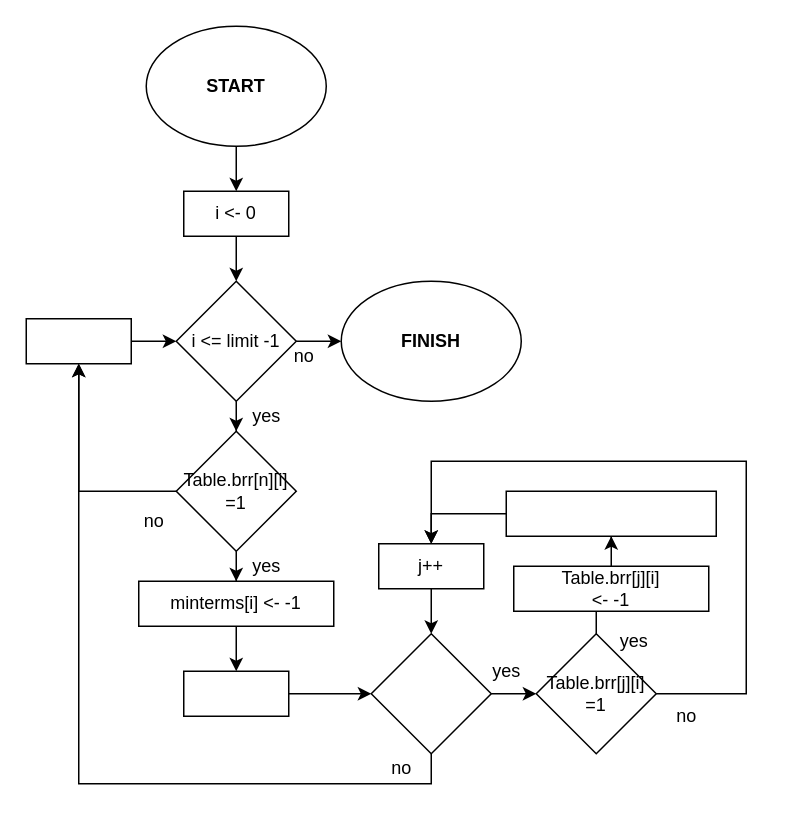
Image size: 785x822. Some labels were removed from this diagram. The shapes that lost their labels are listed below. From the top down, each one's centre as x and y in pixels, then its label:
At point (78, 340): "i++".
At point (610, 513): "Table.mintermCounter[j]--".
At point (235, 693): "j <- 0".
At point (430, 693): "j<Table.top".
